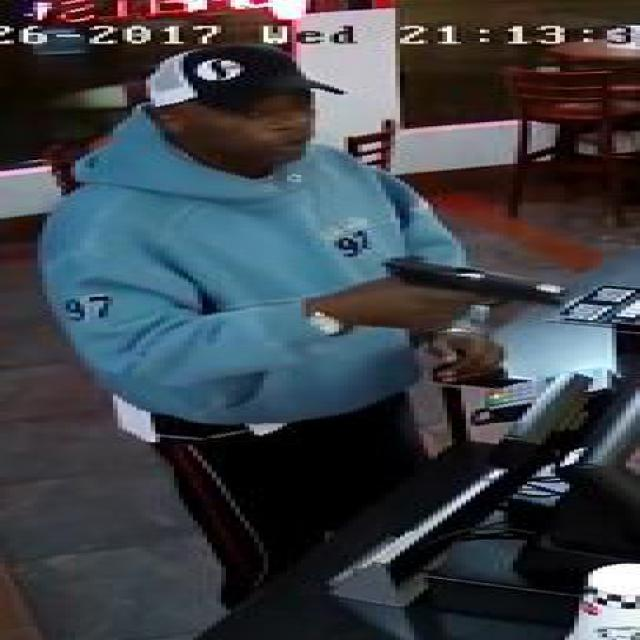Gun: (372, 254, 570, 328)
